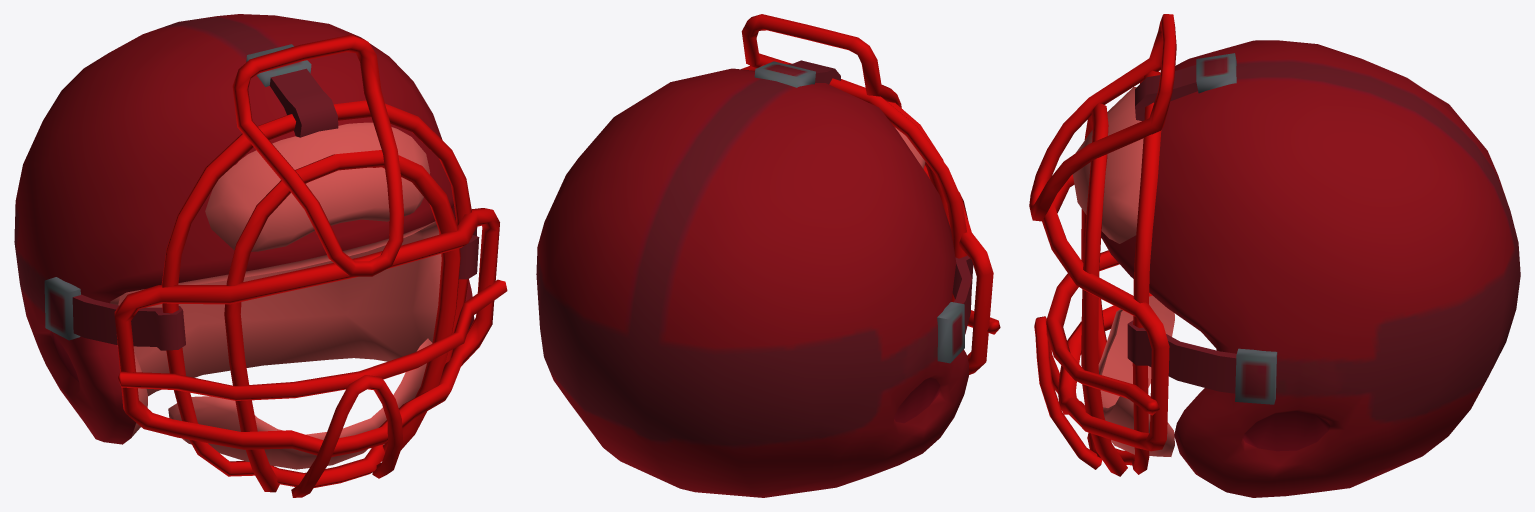
File: CapFullfaceCatcher0.glb
3 views of the same model, side by side, from view 1: azimuth 30°, elevation 25°; view 2: azimuth 150°, elevation 25°; view 3: azimuth 270°, elevation 25° (orthographic). The views are drawn at different scales.
Parts seen in each view (by area): view 1: Body__mCap; view 2: Body__mCap; view 3: Body__mCap.
Part boxes in pixels (left/top/right/bottom): Body__mCap: left=14, top=14, right=507, bottom=497; Body__mCap: left=536, top=14, right=1000, bottom=497; Body__mCap: left=1029, top=14, right=1520, bottom=497.
Bounding box in the file's own units: 8.54 × 8.24 × 8.94.
1 material, 1 textured.
